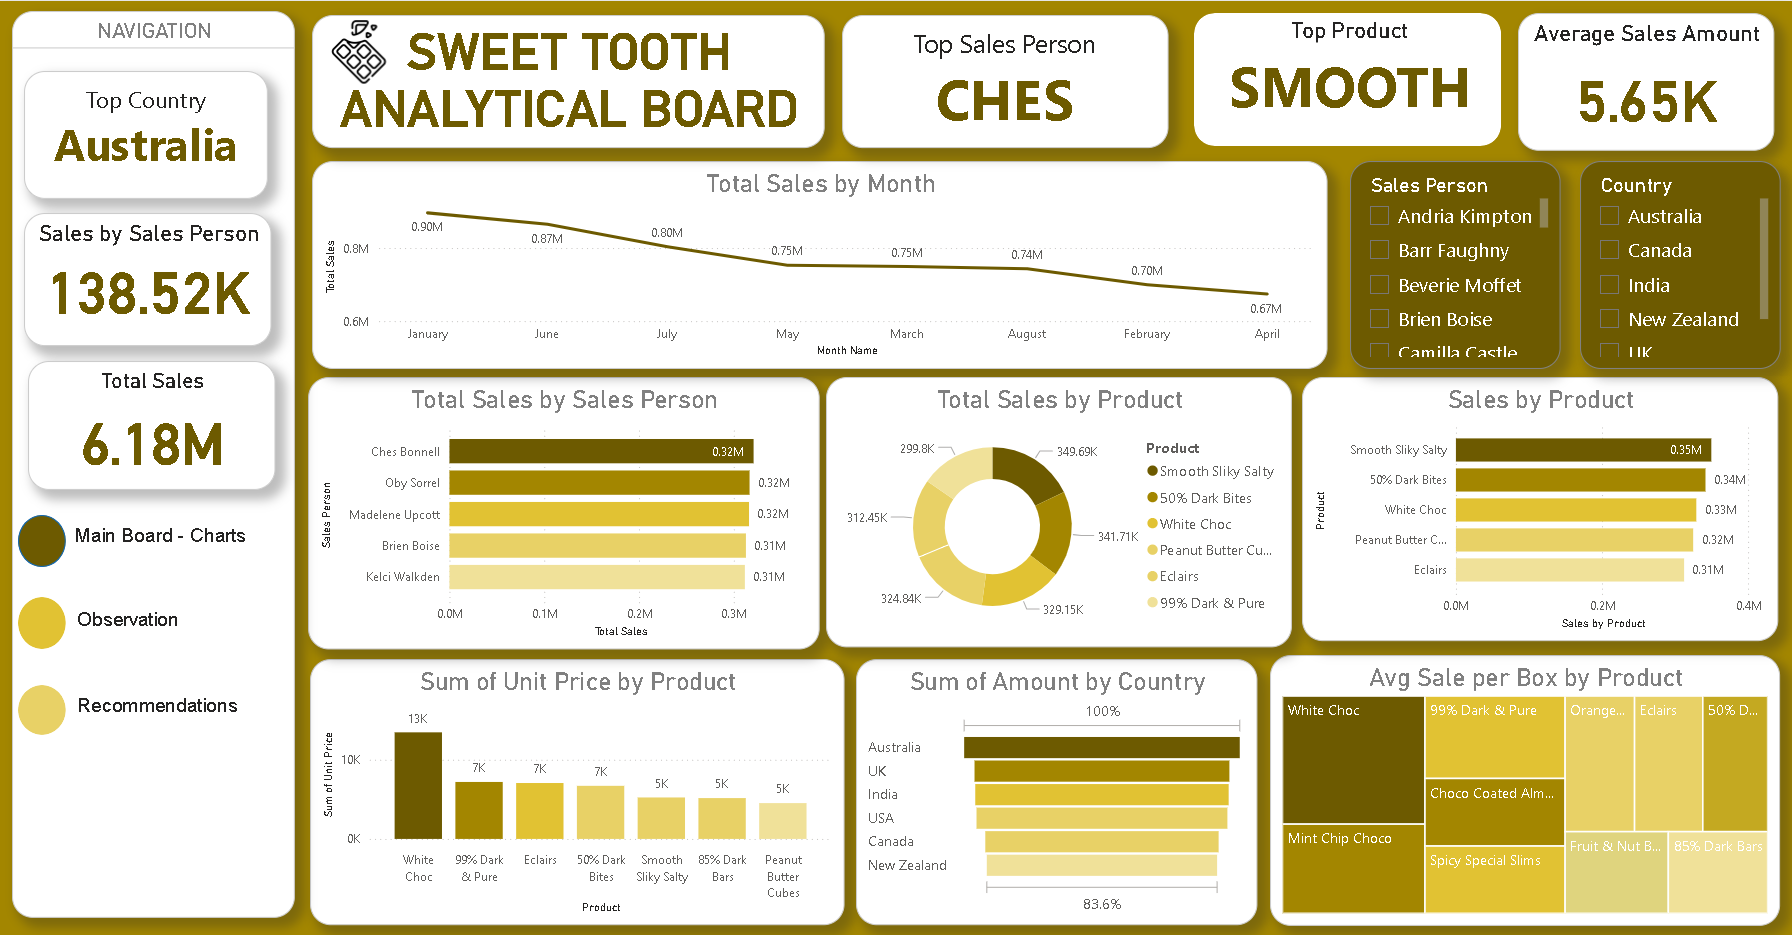

Layout of this report page (visuals, bound fields, positions):
{"tool":"powerbi","page":{"name":"DASHBOARD","canvas":[1740,900],"ordinal":0},"visuals":[{"type":"columnChart","fields":{"Category":["Chocolate Sales.Product"],"Y":["Chocolate Sales.Unit Price"]},"box":[310,632,514,256],"z":0},{"type":"funnel","fields":{"Category":["Chocolate Sales.Country"],"Y":["Chocolate Sales.Amount"]},"box":[834,632,386,256],"z":1000},{"type":"treemap","fields":{"Group":["Chocolate Sales.Product"],"Values":["Chocolate Sales.Avg Sale per Box"]},"box":[1232.6,627.9,490.7,260.5],"z":2000},{"type":"barChart","fields":{"Category":["Chocolate Sales.Sales Person"],"Y":["Chocolate Sales.Total Sales"]},"box":[308,362,492,262],"z":3000},{"type":"lineChart","title":"Total Sales by Month","fields":{"Category":["Chocolate Sales.Month Name"],"Y":["Chocolate Sales.Total Sales"]},"box":[311.6,153.5,976.7,200],"z":4000},{"type":"donutChart","fields":{"Category":["Chocolate Sales.Product"],"Y":["Chocolate Sales.Total Sales"]},"box":[806,362,448,260],"z":5000},{"type":"card","title":"Average Sales Amount","fields":{"Values":["Chocolate Sales.Amount"]},"box":[1472.1,11.6,246.5,132.6],"z":6000},{"type":"barChart","title":"Sales by Product ","fields":{"Category":["Chocolate Sales.Product"],"Y":["Chocolate Sales.Sales by Product"]},"box":[1266,362,458,254],"z":7000},{"type":"shape","box":[1160.5,11.6,295.3,127.9],"z":8000},{"type":"textbox","title":"Top Product","box":[1174.4,16.3,269.8,114],"z":9000},{"type":"slicer","fields":{"Values":["Chocolate Sales.Sales Person"]},"box":[1309.3,153.5,202.3,200],"z":10000},{"type":"slicer","fields":{"Values":["Chocolate Sales.Country"]},"box":[1530.2,153.5,193,200],"z":11000},{"type":"shape","title":"TOP SALES PERSON","box":[820.9,14,314,127.9],"z":12000},{"type":"textbox","box":[834.9,18.6,286,116.3],"z":13000},{"type":"shape","title":"SWEET TOOTH ANALYTICAL BOARD","box":[311.6,14,493,127.9],"z":14000},{"type":"shape","title":"NAVIGATION","box":[23.3,9.3,272.1,872.1],"z":15000},{"type":"shape","box":[28,494,46,50],"z":16000},{"type":"image","box":[296.1,20.1,90,70],"z":17000},{"type":"textbox","box":[78,498,206,46],"z":18000},{"type":"shape","box":[28,574,46,50],"z":19000},{"type":"textbox","box":[80,578,162,46],"z":20000},{"type":"shape","box":[28,658,46,48],"z":21000},{"type":"textbox","box":[80,662,198,44],"z":22000},{"type":"textbox","box":[37.2,69.8,234.9,109.3],"z":23000},{"type":"kpi","title":"Sales by Sales Person","fields":{"TrendLine":["Chocolate Sales.Sales Person"],"Indicator":["Chocolate Sales.Total Sales"]},"box":[34,204,238,128],"z":24000},{"type":"card","title":"Total Sales","fields":{"Values":["Chocolate Sales.Total Sales"]},"box":[38,346,238,124],"z":25000}]}

Visuals, with their boxes in screenshot pixels (x1, y1, x2, y2), scaled from the page's 1740x900 canvas onto the 1792x935 screenshot:
columnChart - Chocolate Sales.Product x Chocolate Sales.Unit Price: (left=319, top=657, right=849, bottom=923)
funnel - Chocolate Sales.Country x Chocolate Sales.Amount: (left=859, top=657, right=1256, bottom=923)
treemap - Chocolate Sales.Product x Chocolate Sales.Avg Sale per Box: (left=1269, top=652, right=1775, bottom=923)
barChart - Chocolate Sales.Sales Person x Chocolate Sales.Total Sales: (left=317, top=376, right=824, bottom=648)
"Total Sales by Month" lineChart: (left=321, top=159, right=1327, bottom=367)
donutChart - Chocolate Sales.Product x Chocolate Sales.Total Sales: (left=830, top=376, right=1291, bottom=646)
"Average Sales Amount" card: (left=1516, top=12, right=1770, bottom=150)
"Sales by Product " barChart: (left=1304, top=376, right=1776, bottom=640)
shape: (left=1195, top=12, right=1499, bottom=145)
"Top Product" textbox: (left=1209, top=17, right=1487, bottom=135)
slicer - Chocolate Sales.Sales Person: (left=1348, top=159, right=1557, bottom=367)
slicer - Chocolate Sales.Country: (left=1576, top=159, right=1775, bottom=367)
"TOP SALES PERSON" shape: (left=845, top=15, right=1169, bottom=147)
textbox: (left=860, top=19, right=1154, bottom=140)
"SWEET TOOTH ANALYTICAL BOARD" shape: (left=321, top=15, right=829, bottom=147)
"NAVIGATION" shape: (left=24, top=10, right=304, bottom=916)
shape: (left=29, top=513, right=76, bottom=565)
image: (left=305, top=21, right=398, bottom=94)
textbox: (left=80, top=517, right=292, bottom=565)
shape: (left=29, top=596, right=76, bottom=648)
textbox: (left=82, top=600, right=249, bottom=648)
shape: (left=29, top=684, right=76, bottom=733)
textbox: (left=82, top=688, right=286, bottom=733)
textbox: (left=38, top=73, right=280, bottom=186)
"Sales by Sales Person" kpi: (left=35, top=212, right=280, bottom=345)
"Total Sales" card: (left=39, top=359, right=284, bottom=488)
